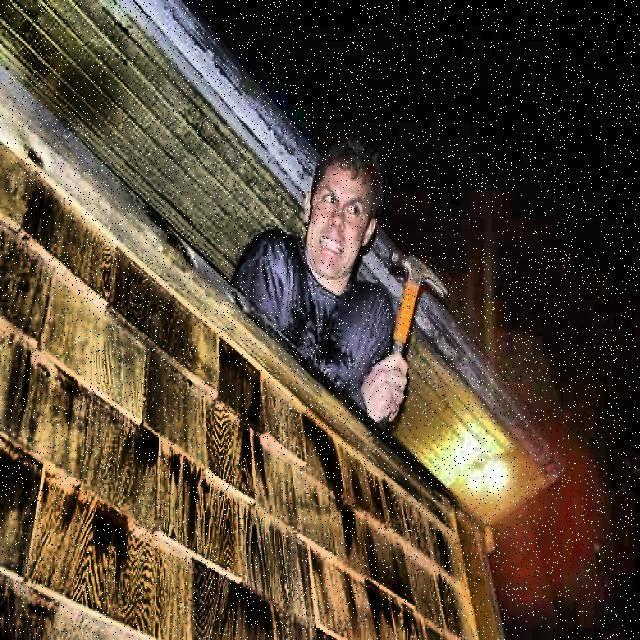hammer: (360, 249, 446, 423)
